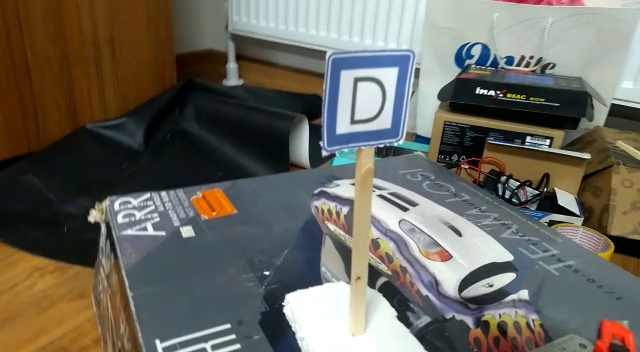durak: (320, 50, 418, 142)
